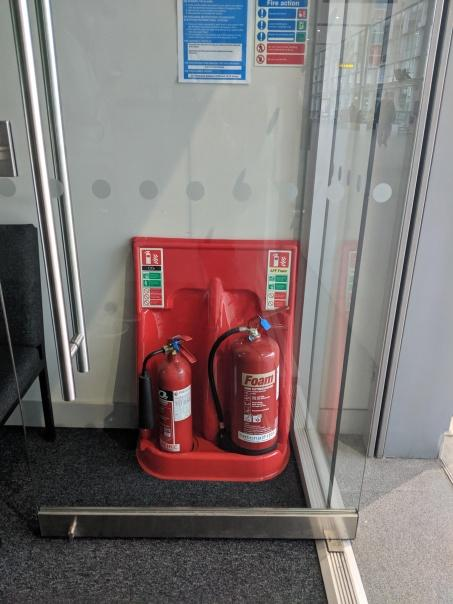APAR: (231, 306, 290, 454), (155, 335, 195, 453)
